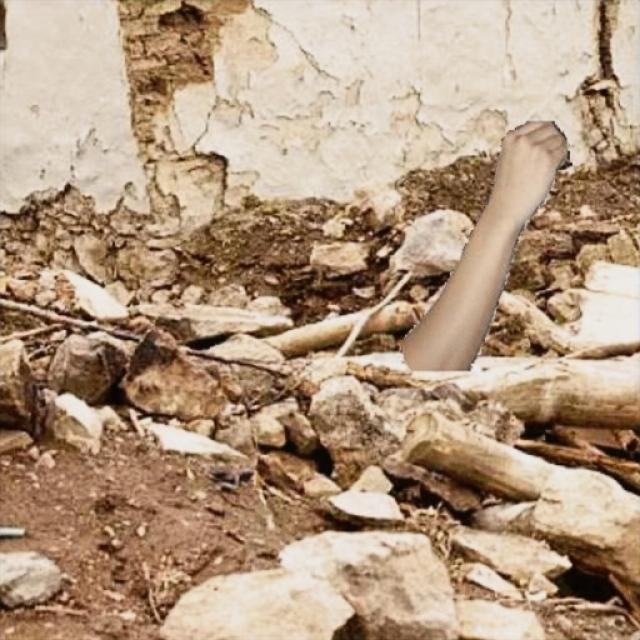Person in Rubble: (401, 121, 571, 370)
